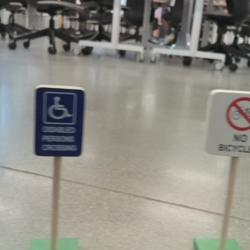disabled_persons_crossing: (34, 85, 86, 157)
no_bicycle: (204, 88, 250, 158)
